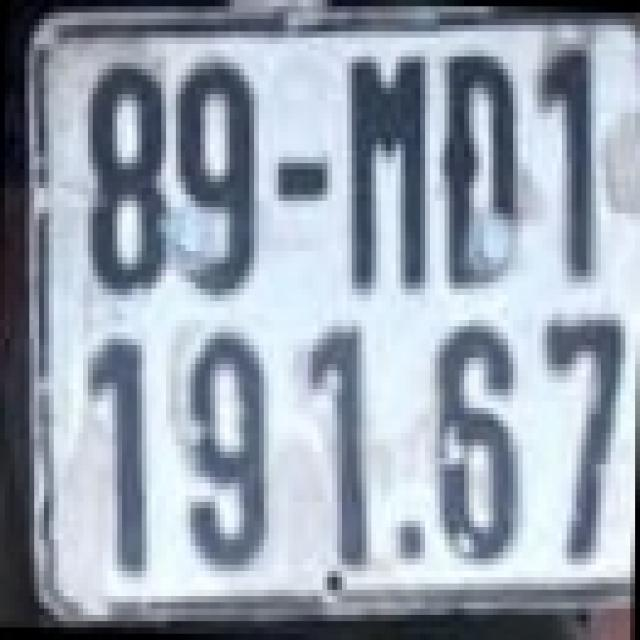1: (308, 326, 376, 565), (88, 333, 156, 571), (537, 44, 601, 276)
6: (435, 320, 518, 558)
7: (542, 314, 626, 564)
8: (88, 63, 171, 295)
9: (180, 326, 274, 571), (171, 56, 259, 295)
D: (444, 63, 522, 282)
M: (347, 53, 435, 292)
